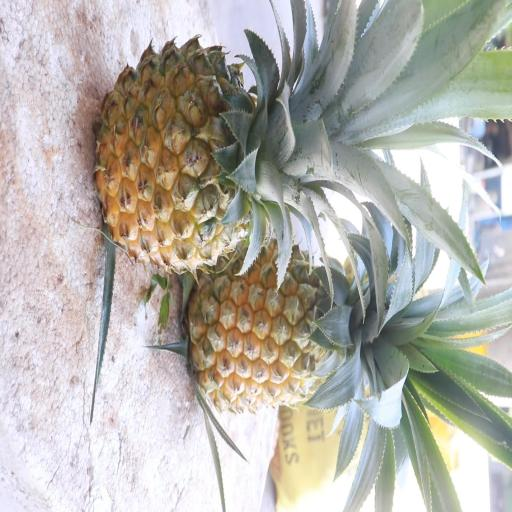Pineapple - v8 v1: (91, 32, 338, 280), (185, 232, 397, 420)
